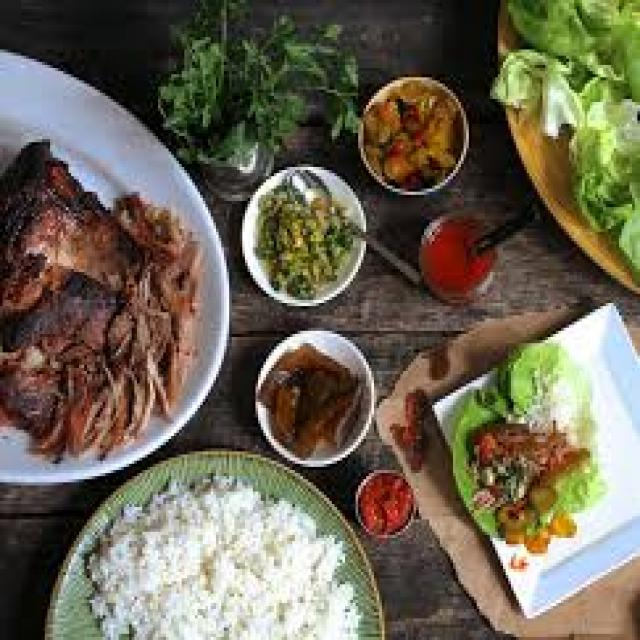organic waste: (84, 467, 356, 637), (0, 133, 129, 321), (445, 383, 595, 541), (0, 269, 119, 439), (503, 0, 637, 96), (256, 343, 358, 445), (564, 90, 637, 232), (490, 46, 600, 140), (250, 192, 345, 290), (47, 334, 116, 457), (366, 80, 453, 176), (108, 192, 198, 275), (264, 566, 364, 637), (105, 260, 168, 368), (234, 56, 311, 142), (158, 21, 227, 114), (253, 15, 340, 80), (87, 352, 134, 464), (29, 343, 76, 455), (198, 0, 250, 99), (119, 331, 171, 426), (156, 74, 218, 152), (190, 556, 248, 637), (495, 340, 556, 411), (153, 235, 205, 318), (506, 427, 584, 479), (161, 288, 195, 405), (290, 386, 348, 454), (111, 584, 179, 637), (237, 513, 300, 569), (208, 575, 269, 631), (427, 223, 482, 281), (129, 520, 184, 578), (282, 526, 340, 581), (326, 50, 361, 139), (358, 473, 408, 532), (82, 541, 137, 594), (153, 562, 195, 630), (124, 504, 179, 550), (97, 563, 145, 615), (542, 458, 592, 507), (171, 501, 227, 544), (208, 510, 256, 560), (306, 584, 350, 637), (190, 115, 250, 152), (492, 418, 556, 452), (419, 93, 458, 148), (197, 470, 245, 513), (274, 368, 300, 445), (148, 473, 198, 513), (245, 488, 292, 528), (95, 514, 137, 554), (464, 420, 503, 460), (466, 482, 503, 520), (374, 136, 411, 173), (398, 99, 429, 139), (519, 479, 558, 510), (384, 77, 426, 105), (305, 362, 332, 405), (411, 139, 445, 173), (276, 256, 310, 290), (622, 210, 638, 282), (303, 201, 332, 238), (534, 510, 572, 538), (364, 99, 395, 133), (276, 226, 306, 260), (271, 600, 298, 637), (272, 198, 300, 232), (250, 216, 271, 256), (321, 198, 337, 244), (311, 235, 329, 275), (266, 260, 290, 290), (324, 222, 345, 254), (521, 526, 548, 550), (255, 188, 274, 216), (498, 516, 524, 535), (493, 504, 516, 516)
